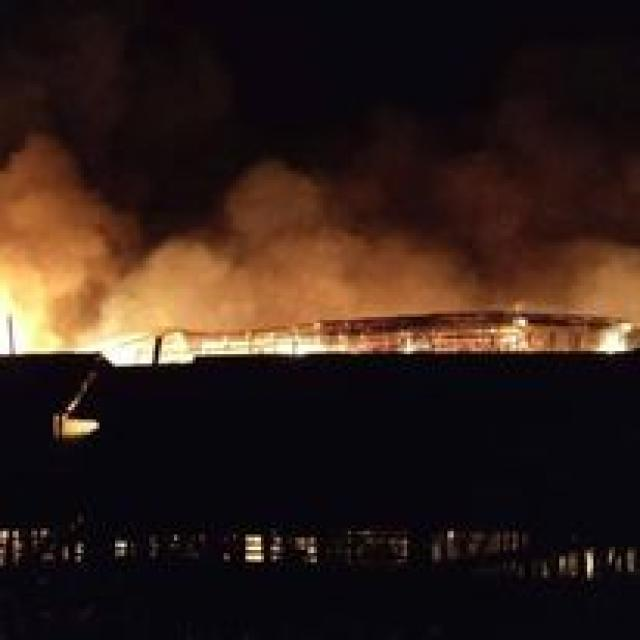Fire: (97, 328, 202, 376), (228, 322, 332, 362), (586, 317, 636, 358)
Smoke: (2, 6, 640, 312)
